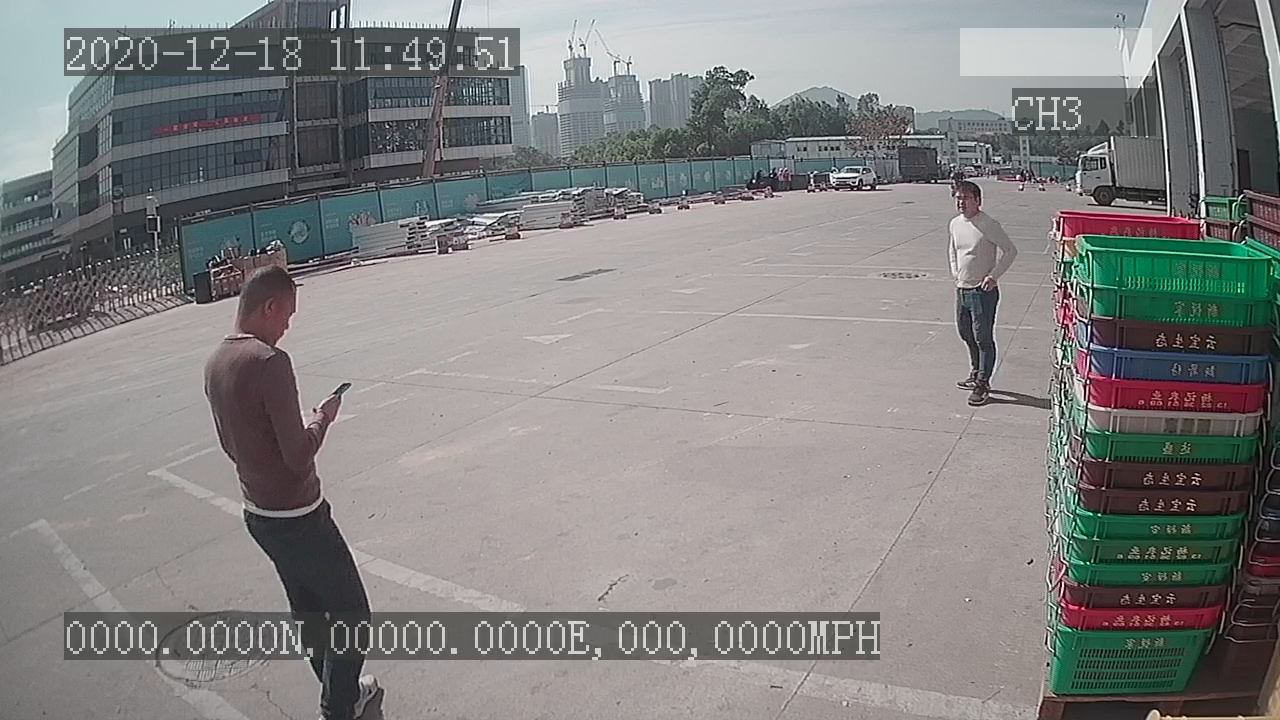person: (943, 177, 1022, 408)
